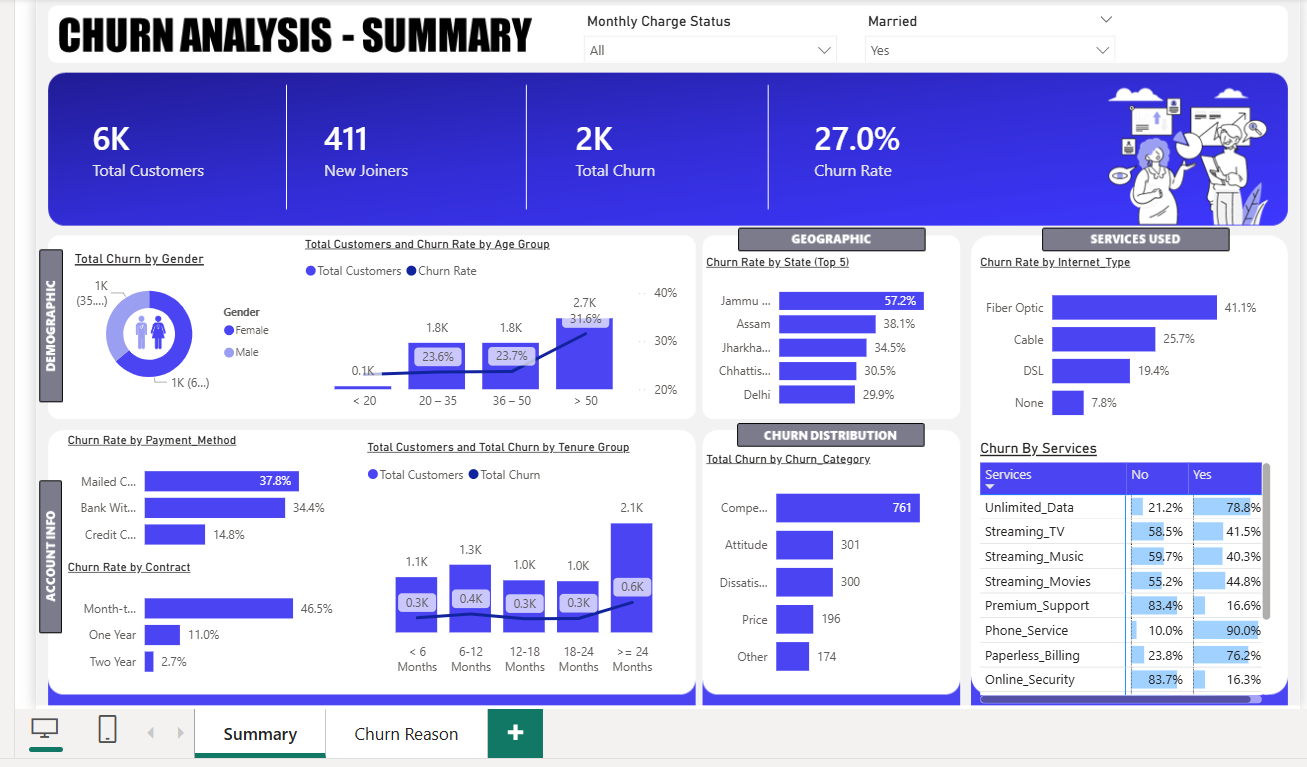

The page's visual inventory and layout, read from the dashboard file:
{"tool":"powerbi","page":{"name":"Summary","canvas":[1280,720],"ordinal":0},"visuals":[{"type":"cardVisual","fields":{"Data":["tb_Measures.Total Customers"]},"box":[17.8,87.8,225.6,130],"z":0},{"type":"cardVisual","fields":{"Data":["tb_Measures.New Joiners"]},"box":[251.4,87.1,225,130],"z":1000},{"type":"cardVisual","fields":{"Data":["tb_Measures.Total Churn"]},"box":[507.1,87.1,225,130],"z":2000},{"type":"cardVisual","fields":{"Data":["tb_Measures.Churn Rate"]},"box":[747.8,86.7,225,130],"z":3000},{"type":"donutChart","fields":{"Category":["prod_Churn.Gender"],"Y":["tb_Measures.Total Churn"]},"box":[34.4,256.7,216.7,152.2],"z":4000},{"type":"lineStackedColumnComboChart","fields":{"Category":["mapping_AgeGrp.Age Group"],"Y":["tb_Measures.Total Customers"],"Y2":["tb_Measures.Churn Rate"]},"box":[267.1,241.4,387.1,184.3],"z":5000},{"type":"clusteredBarChart","fields":{"Category":["prod_Churn.Payment_Method"],"Y":["tb_Measures.Churn Rate"]},"box":[27.5,441.2,278.8,130],"z":6000},{"type":"lineStackedColumnComboChart","fields":{"Category":["mapping_TenureGrp.Tenure Group"],"Y":["tb_Measures.Total Customers"],"Y2":["tb_Measures.Total Churn"]},"box":[331.1,447.8,322.2,245.6],"z":7000},{"type":"clusteredBarChart","title":"Churn Rate by State (Top 5)","fields":{"Category":["prod_Churn.State"],"Y":["tb_Measures.Churn Rate"]},"box":[674.4,260,264.4,165.6],"z":8000},{"type":"clusteredBarChart","fields":{"Category":["prod_Churn.Churn_Category"],"Y":["tb_Measures.Total Churn"]},"box":[674.4,460,251.1,243.3],"z":9000},{"type":"clusteredBarChart","fields":{"Category":["prod_Churn.Internet_Type"],"Y":["tb_Measures.Churn Rate"]},"box":[951.1,260,295.6,181.1],"z":10000},{"type":"pivotTable","title":"Churn By Services","fields":{"Rows":["prod_Services.Services"],"Values":["Sum(prod_Services.Churn Status)"],"Columns":["prod_Services.Status"]},"box":[951.1,447.8,304.4,272.2],"z":11000},{"type":"image","box":[90,316.2,52.5,43.8],"z":13000},{"type":"clusteredBarChart","fields":{"Category":["prod_Churn.Contract"],"Y":["tb_Measures.Churn Rate"]},"box":[27.5,570,278.8,130],"z":15000},{"type":"slicer","fields":{"Values":["prod_Services.Monthly Charge Status"]},"box":[545.2,10,276.2,54.4],"z":15001},{"type":"slicer","fields":{"Values":["prod_Services.Married"]},"box":[830,10,273.3,54.4],"z":15002}]}

Visuals, with their boxes on the page's 1280x720 design canvas (x1, y1, x2, y2). These are canvas units, not pixel positions in the 1307x767 screenshot, which may show the page scaled, cropped or inside an application window:
cardVisual - tb_Measures.Total Customers: [left=18, top=88, right=243, bottom=218]
cardVisual - tb_Measures.New Joiners: [left=251, top=87, right=476, bottom=217]
cardVisual - tb_Measures.Total Churn: [left=507, top=87, right=732, bottom=217]
cardVisual - tb_Measures.Churn Rate: [left=748, top=87, right=973, bottom=217]
donutChart - prod_Churn.Gender x tb_Measures.Total Churn: [left=34, top=257, right=251, bottom=409]
lineStackedColumnComboChart - mapping_AgeGrp.Age Group x tb_Measures.Total Customers: [left=267, top=241, right=654, bottom=426]
clusteredBarChart - prod_Churn.Payment_Method x tb_Measures.Churn Rate: [left=28, top=441, right=306, bottom=571]
lineStackedColumnComboChart - mapping_TenureGrp.Tenure Group x tb_Measures.Total Customers: [left=331, top=448, right=653, bottom=693]
"Churn Rate by State (Top 5)" clusteredBarChart: [left=674, top=260, right=939, bottom=426]
clusteredBarChart - prod_Churn.Churn_Category x tb_Measures.Total Churn: [left=674, top=460, right=926, bottom=703]
clusteredBarChart - prod_Churn.Internet_Type x tb_Measures.Churn Rate: [left=951, top=260, right=1247, bottom=441]
"Churn By Services" pivotTable: [left=951, top=448, right=1256, bottom=720]
image: [left=90, top=316, right=142, bottom=360]
clusteredBarChart - prod_Churn.Contract x tb_Measures.Churn Rate: [left=28, top=570, right=306, bottom=700]
slicer - prod_Services.Monthly Charge Status: [left=545, top=10, right=821, bottom=64]
slicer - prod_Services.Married: [left=830, top=10, right=1103, bottom=64]
